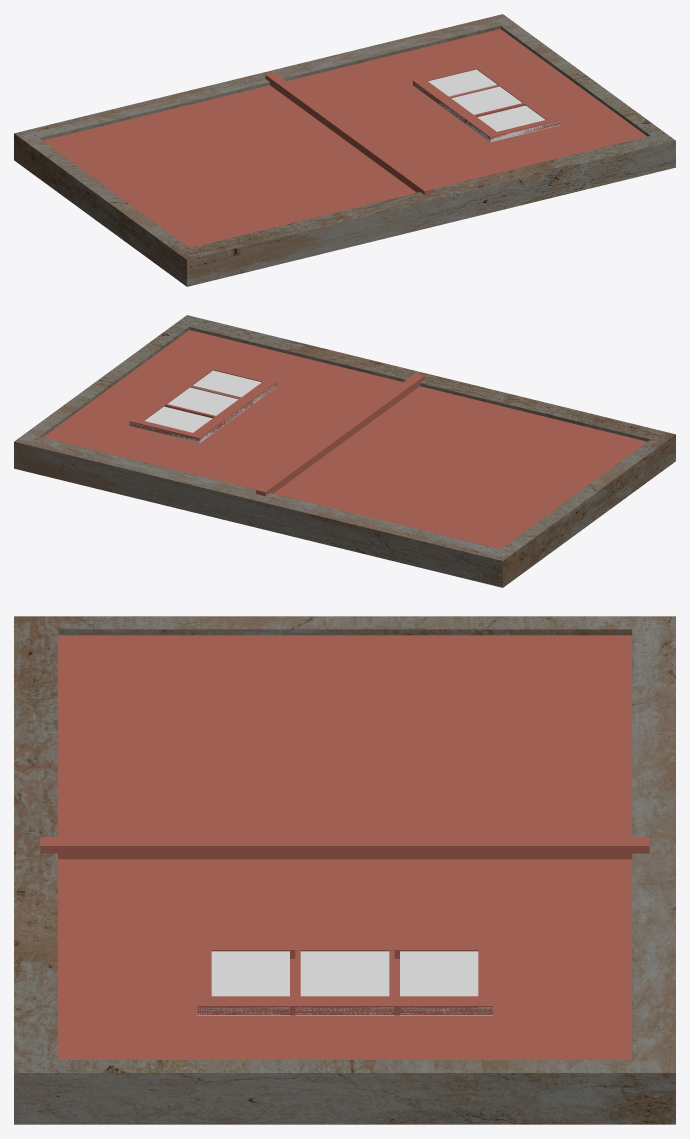
The model's file is factory_Door.fbx.
3 views of the same model, one above another, from view 1: azimuth 30°, elevation 25°; view 2: azimuth 150°, elevation 25°; view 3: azimuth 270°, elevation 25° (orthographic). The views are drawn at different scales.
Parts seen in each view (by area): view 1: door, door_frame, window; view 2: door, door_frame, window; view 3: door, door_frame, window.
Boxes of the visible parts, <box> form: door: <box>43,29,646,247</box>; door_frame: <box>14,14,675,286</box>; window: <box>413,69,560,142</box>; door: <box>43,330,646,548</box>; door_frame: <box>14,315,675,587</box>; window: <box>129,370,276,443</box>; door: <box>40,635,649,1059</box>; door_frame: <box>14,616,675,1124</box>; window: <box>197,951,492,1015</box>.
Size of the model in its own units: 545 by 32.96 by 334.
